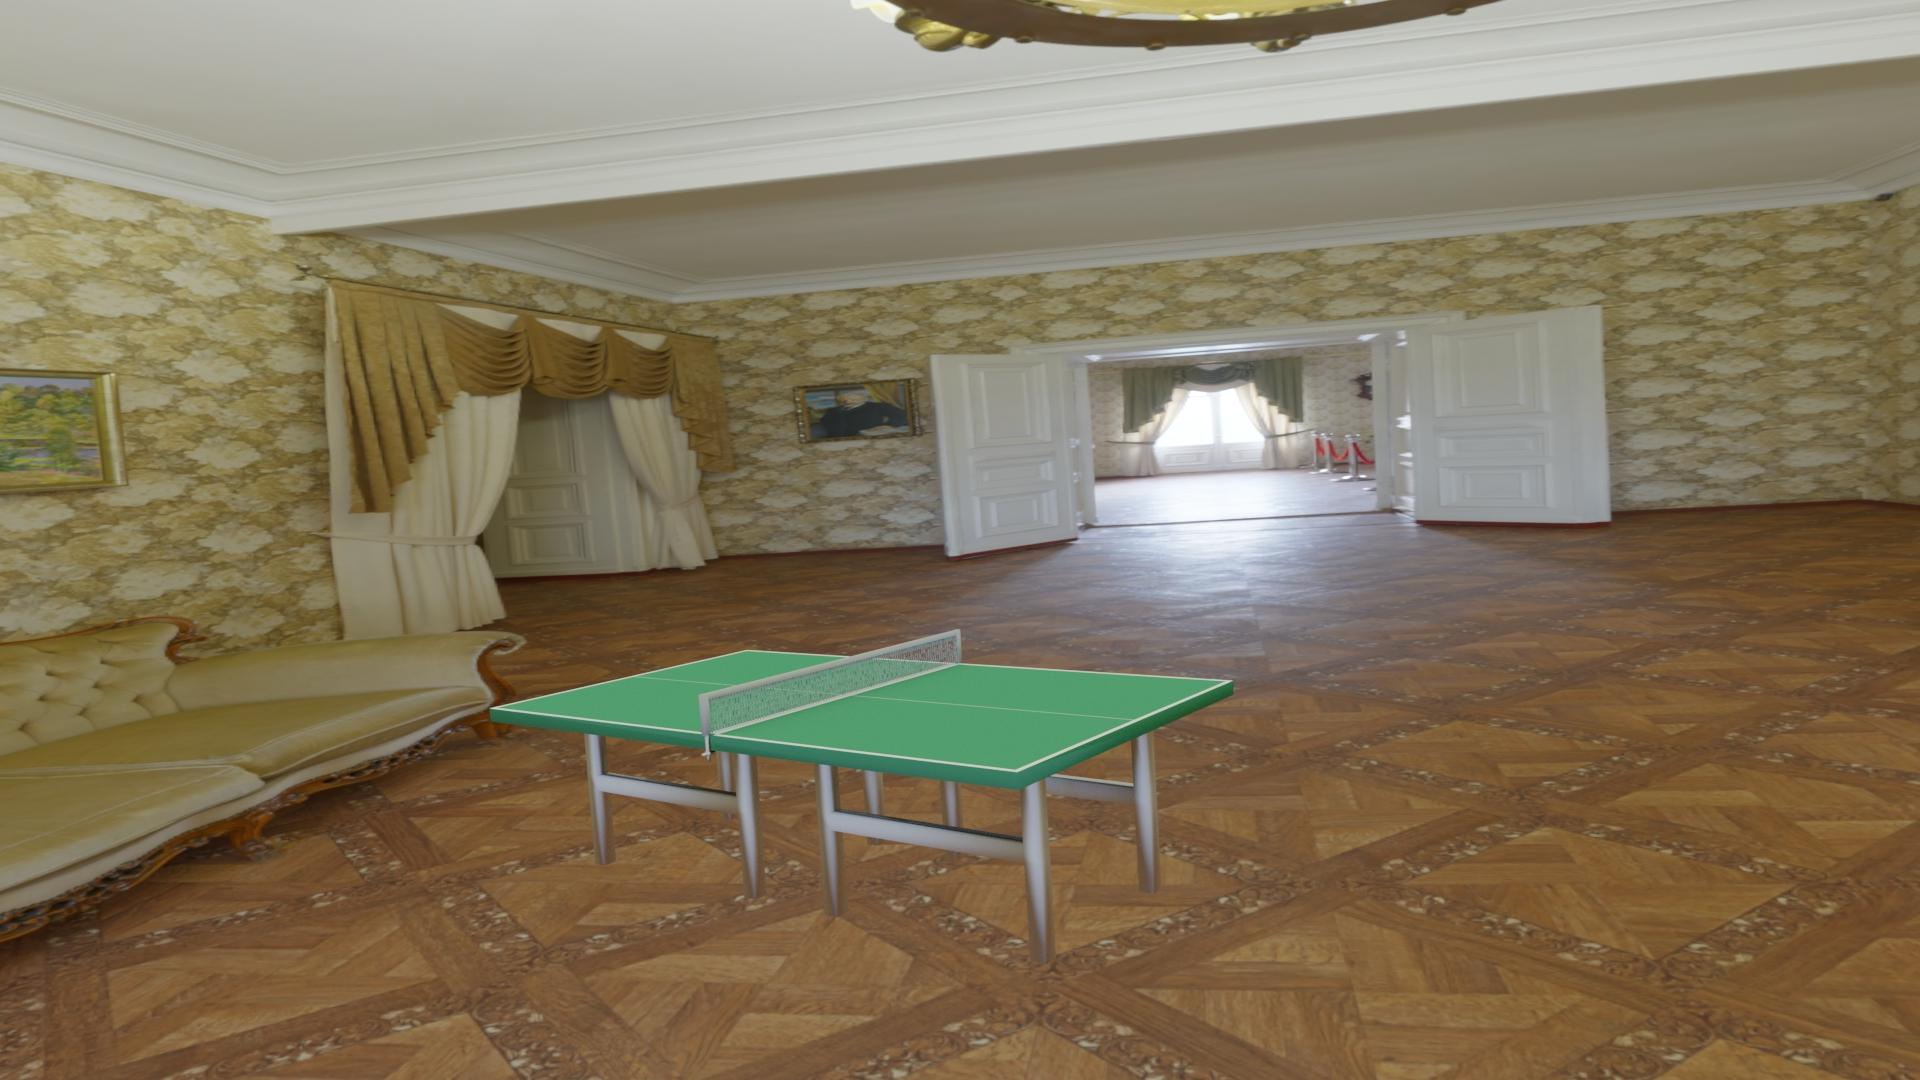table: (496, 651, 1226, 770)
